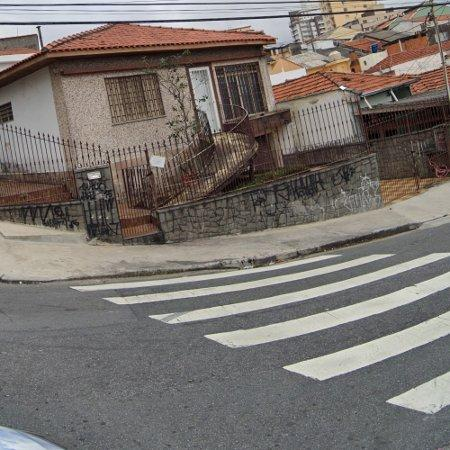crosswalks: (68, 251, 450, 417)
